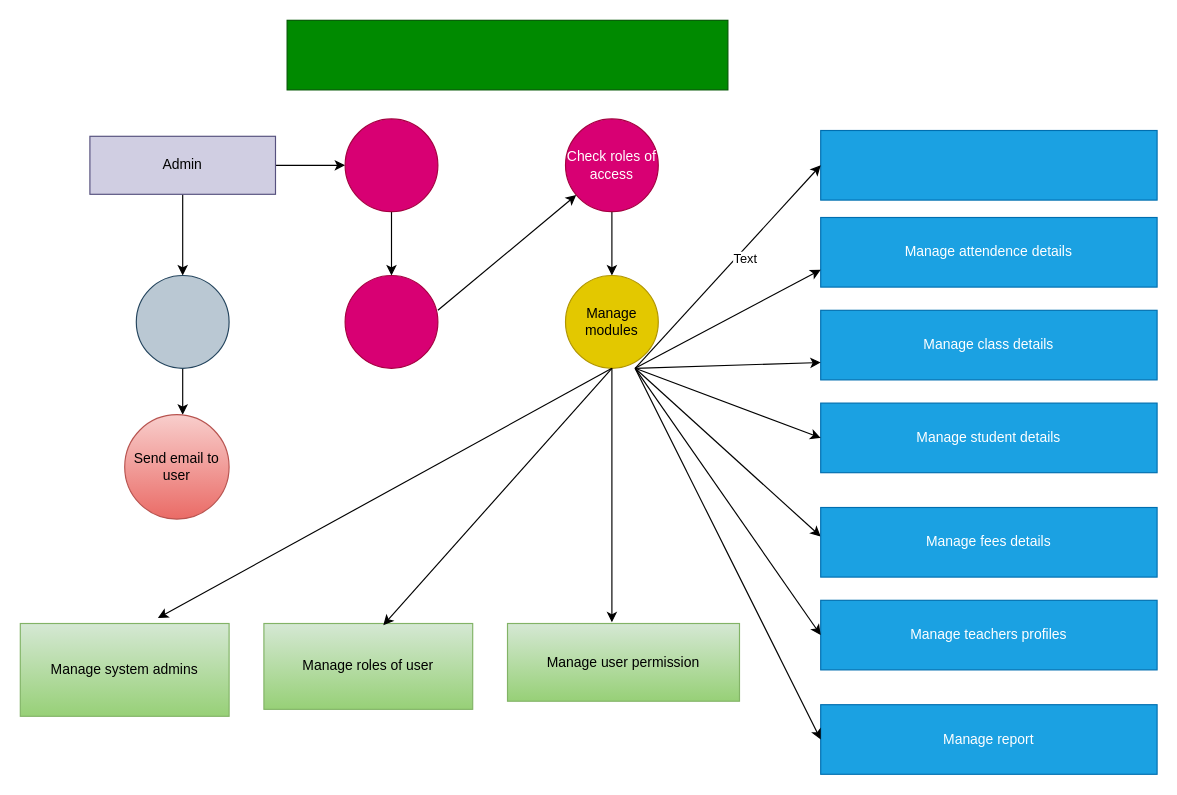
This 1177x795 diagram has some shape labels left out. Each missing label, with the centre of its shape:
Check credentials: point 391,321
Forgot password: point 182,321
Login to system: point 391,165
Manage time table details: point 988,164
student information system: point 507,54
